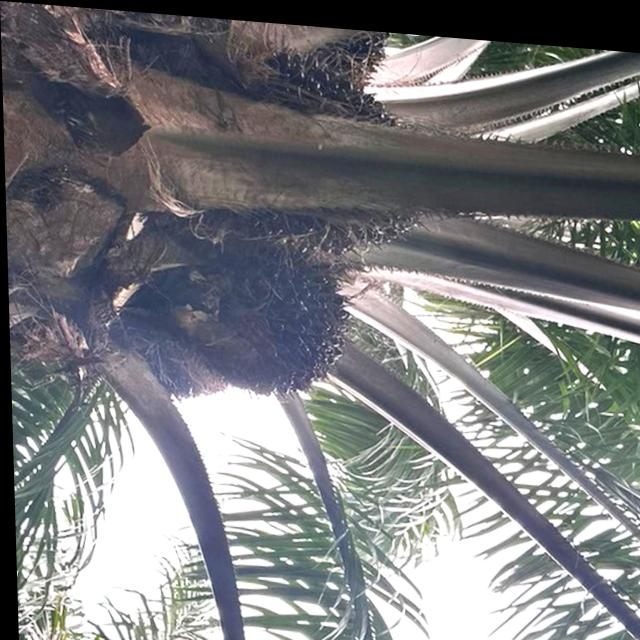unripe: (182, 234, 353, 404)
